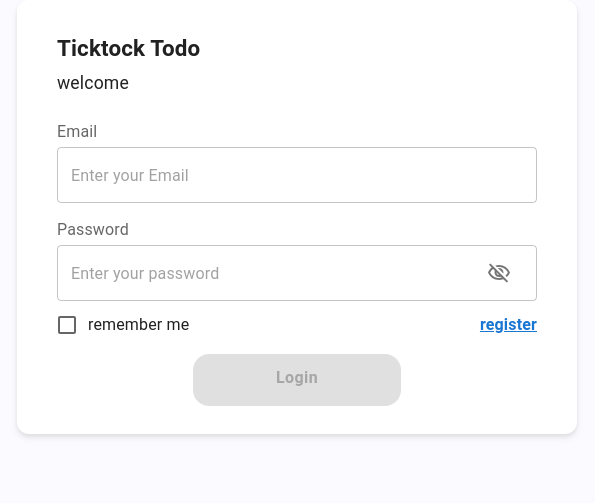
Test case: Login Component › should display invalid email error when email format is incorrect
This screenshot has width=595, height=503.
Type "invalid-email" into the field labelled "Email". click: coordinates (297, 175)
box: [57,147,537,203]
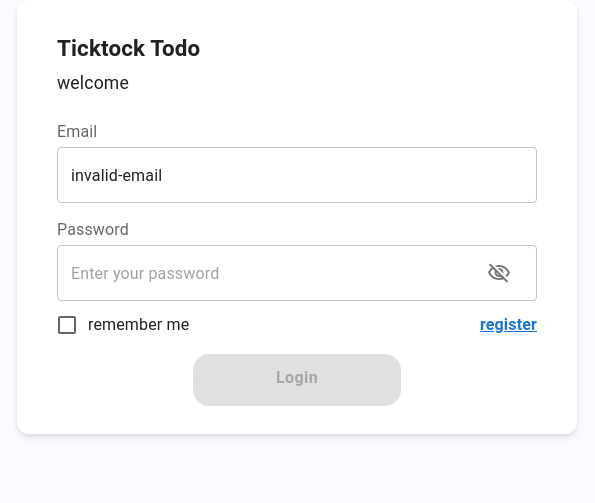
Submit the form from the button "Login", box [193,354,401,406]
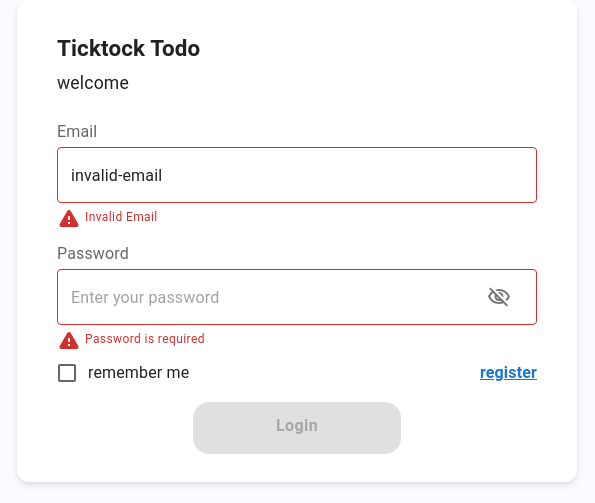
Now the text "Invalid Email" is shown, box [85,208,158,228]
